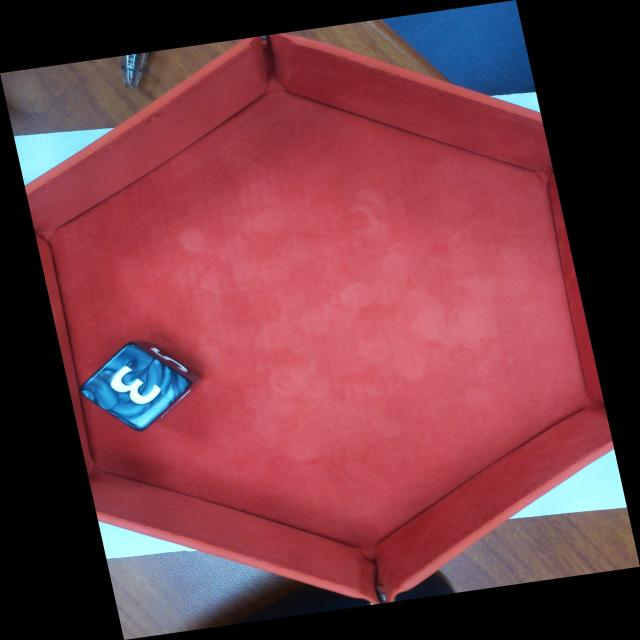dice: (75, 341, 196, 433)
